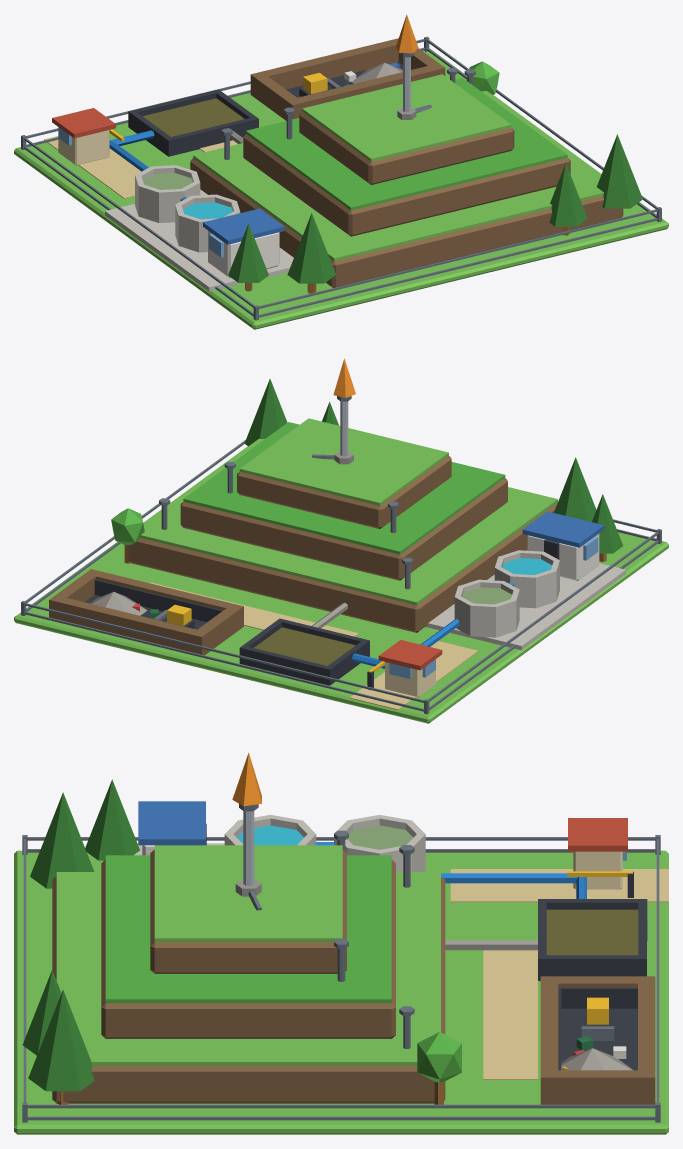
File: landfill.glb
The picture shows the model from 3 angles, top to bottom: view 1: azimuth 30°, elevation 25°; view 2: azimuth 150°, elevation 25°; view 3: azimuth 270°, elevation 25°; orthographic projection. The views are drawn at different scales.
Parts seen in each view (by area): view 1: corpo; view 2: corpo; view 3: corpo.
Part boxes in pixels (x1,y1,x2,y2): corpo: (14,14,668,329); corpo: (14,358,668,723); corpo: (14,753,668,1134).
Bounding box in the file's own units: 6 × 2.69 × 6.
